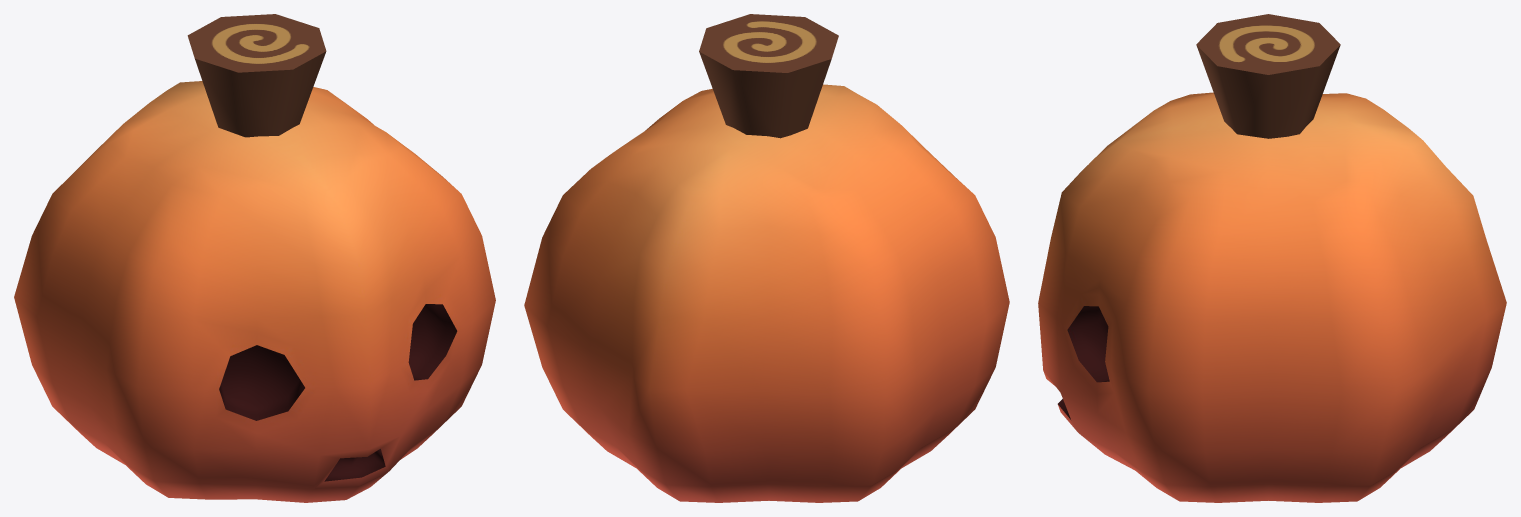
File: PumpkinOoO_Mask.fbx
The picture shows the model from 3 angles, left to right: view 1: azimuth 30°, elevation 25°; view 2: azimuth 150°, elevation 25°; view 3: azimuth 270°, elevation 25°; orthographic projection.
Parts seen in each view (by area): view 1: PumpkinOoO_Mask; view 2: PumpkinOoO_Mask; view 3: PumpkinOoO_Mask.
Part boxes in pixels (x1,y1,x2,y2): PumpkinOoO_Mask: [14, 14, 495, 502]; PumpkinOoO_Mask: [524, 14, 1009, 502]; PumpkinOoO_Mask: [1038, 14, 1506, 502].
Size of the model in its own units: 1065 by 1089 by 1173.
Materials: 1 (1 with a texture image).
